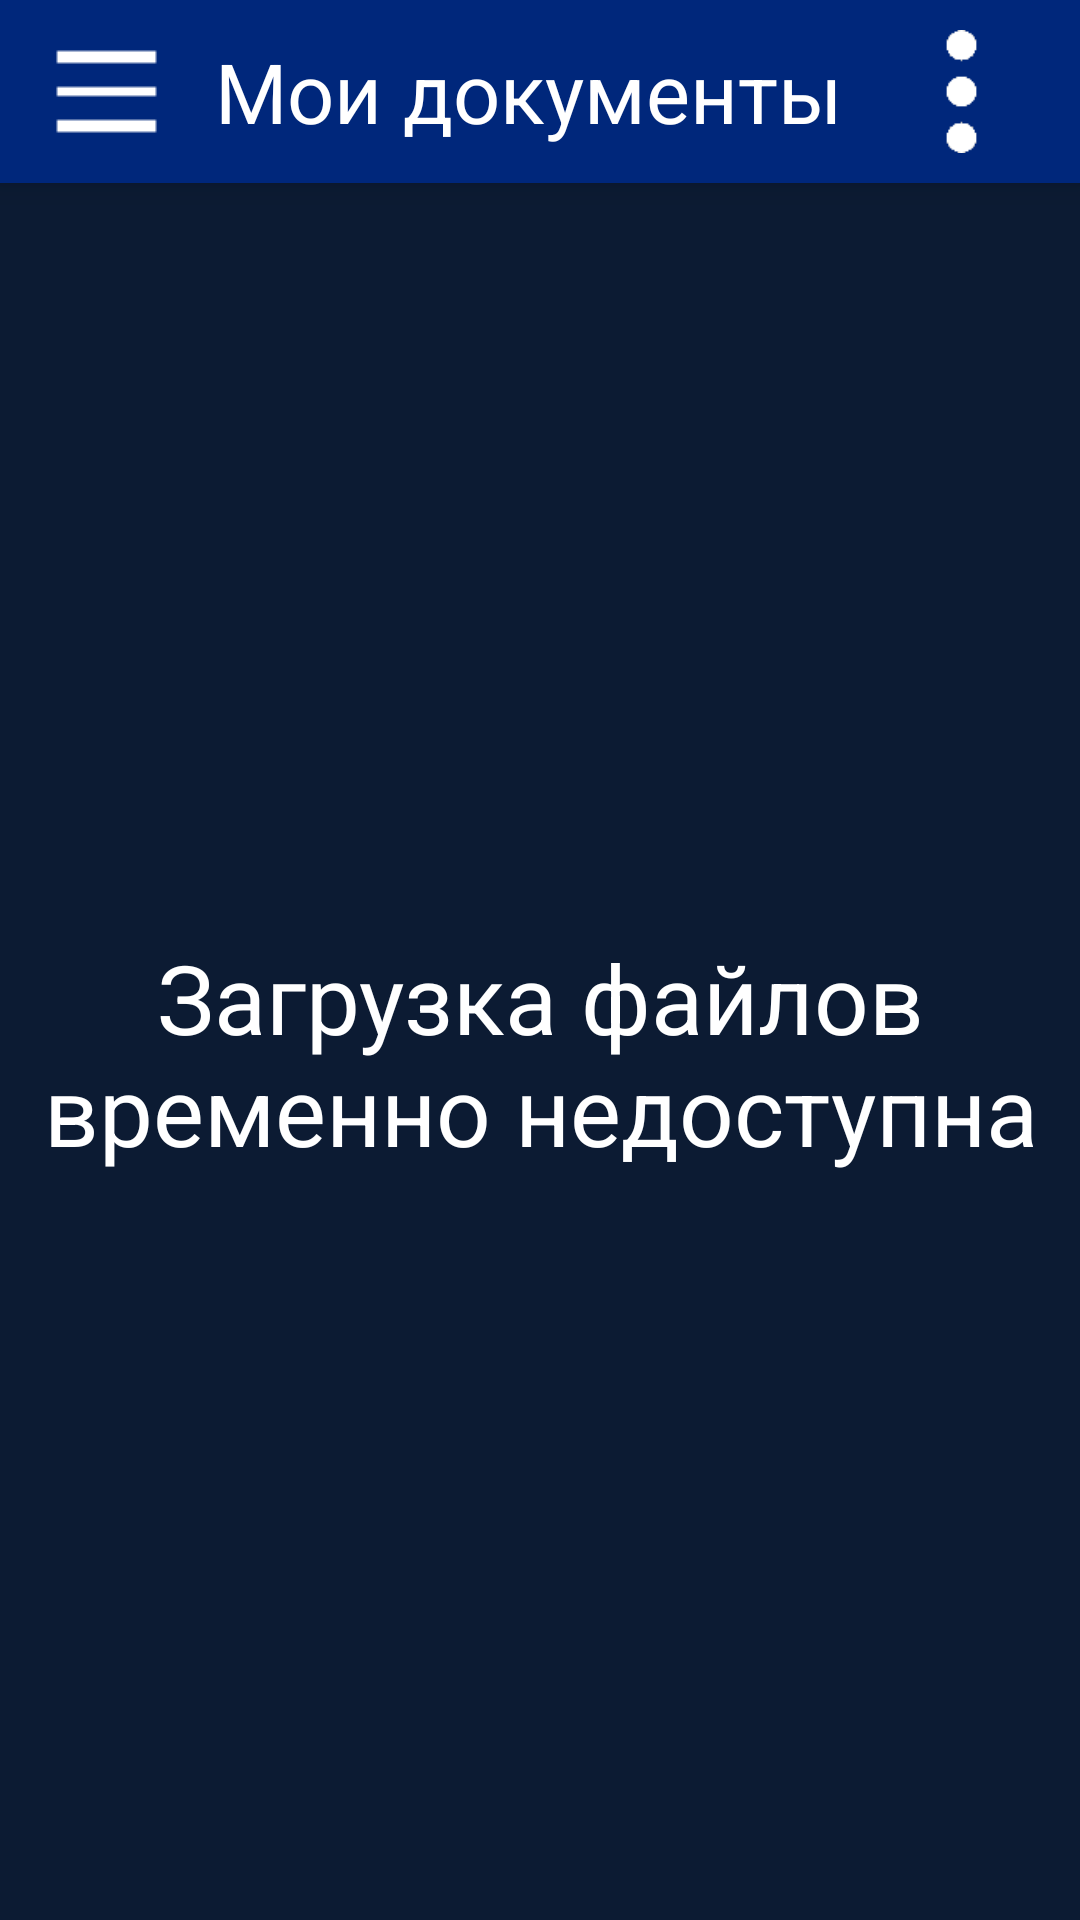

Point at icon controls on the screen. Image size 1080*1920, points as point (x, y).
leftmenuicon: point (106, 91)
